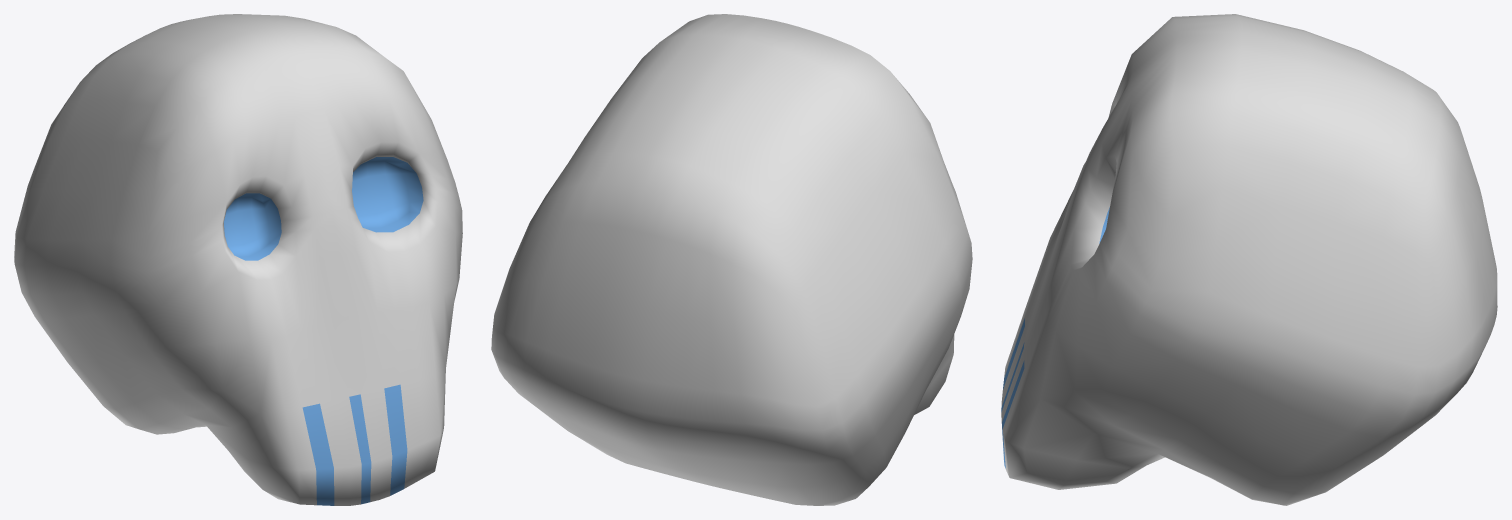
File: scull.fbx
The picture shows the model from 3 angles, left to right: view 1: azimuth 30°, elevation 25°; view 2: azimuth 150°, elevation 25°; view 3: azimuth 270°, elevation 25°; orthographic projection. The views are drawn at different scales.
Visible parts, largest first — view 1: scull; view 2: scull; view 3: scull.
Boxes of the visible parts, x1,y1,x2,y2 form: scull: (14,14,462,505); scull: (491,14,972,505); scull: (1001,14,1497,505).
Bounding box in the file's own units: 20.4 × 22.65 × 23.89.
